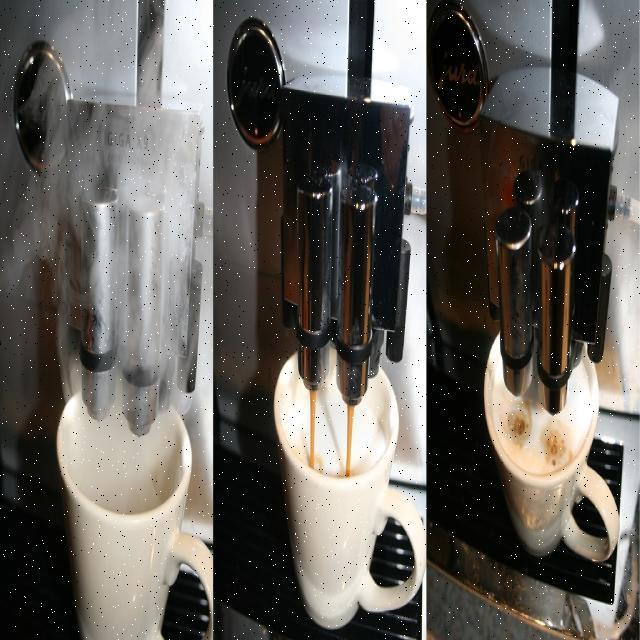Coffee-Machine: (0, 0, 220, 444), (208, 0, 420, 436), (430, 0, 640, 428)
